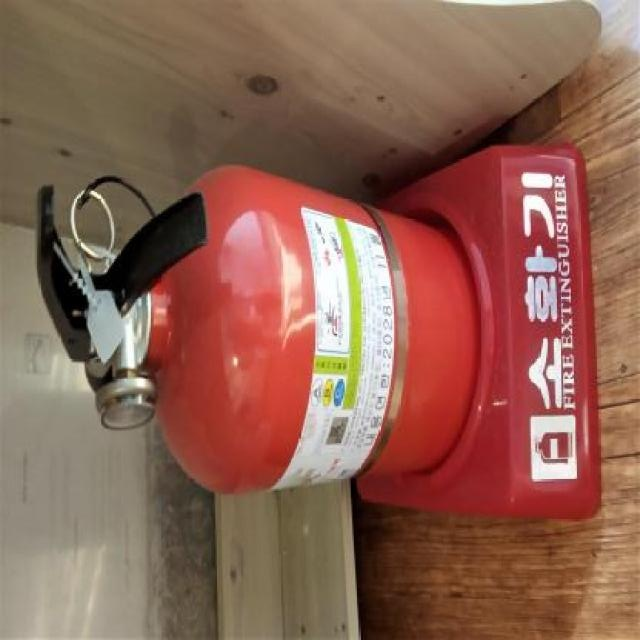fire extinguisher: (35, 165, 481, 497)
